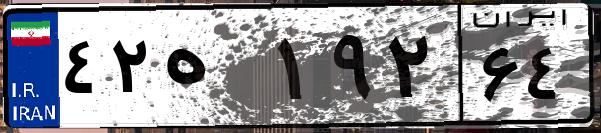1: (270, 28, 330, 110)
2: (385, 28, 445, 110), (110, 28, 158, 98)
4: (57, 26, 110, 100), (525, 38, 570, 115)
6: (475, 38, 525, 113)
9: (330, 28, 385, 110)
ه: (158, 20, 270, 120)
